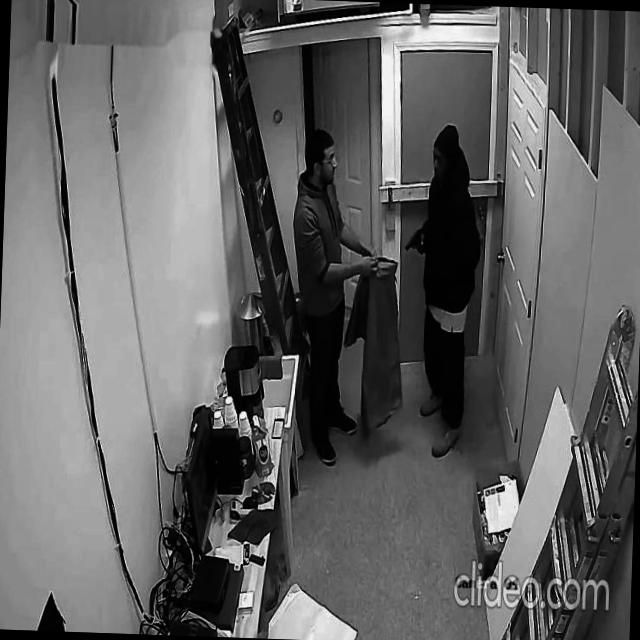gun: (405, 227, 425, 256)
person: (284, 126, 384, 468)
person with a gun: (395, 121, 486, 460)
